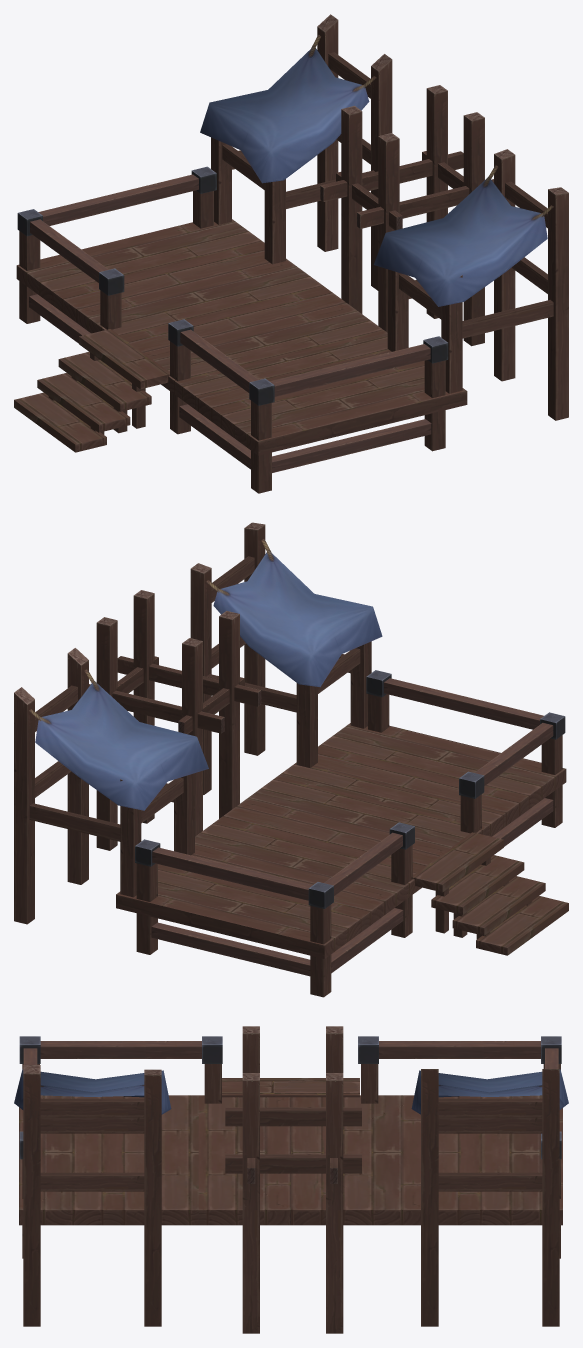
The model's file is scene_malujiakuangdao_mutai01.FBX.
3 renders of one model, top to bottom at view 1: azimuth 30°, elevation 25°; view 2: azimuth 150°, elevation 25°; view 3: azimuth 270°, elevation 25°, orthographic. The views are drawn at different scales.
Parts seen in each view (by area): view 1: scene_malujiakuangdao_mutai01; view 2: scene_malujiakuangdao_mutai01; view 3: scene_malujiakuangdao_mutai01.
Boxes of the visible parts, x1,y1,x2,y2 form: scene_malujiakuangdao_mutai01: (14,14,568,493); scene_malujiakuangdao_mutai01: (14,522,568,997); scene_malujiakuangdao_mutai01: (14,1026,568,1333).
Bounding box in the file's own units: 803 × 403 × 785.
